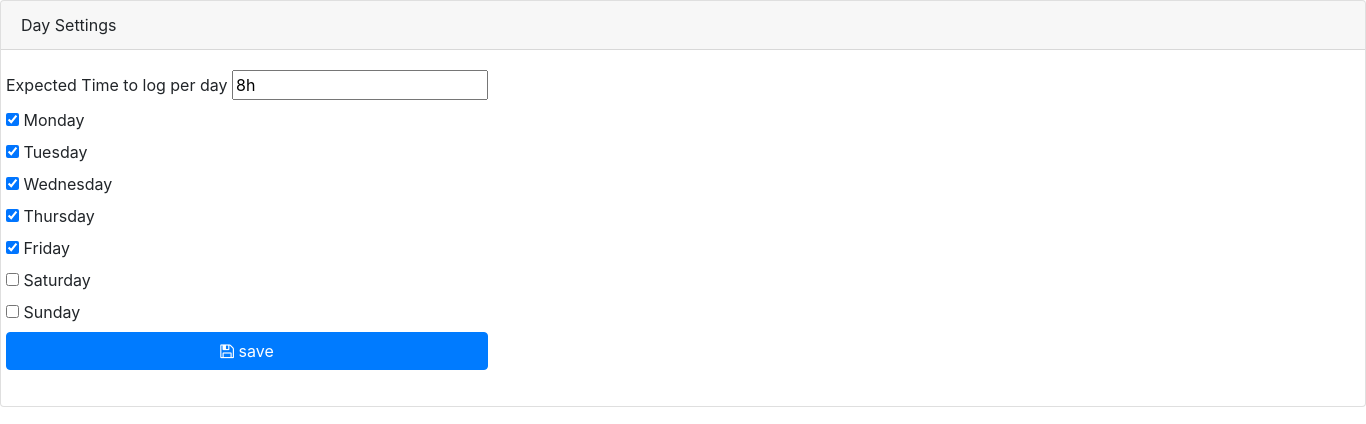
Test: SettingsView › should mark invalid values and make saving of that invalid value impossible
The width and height of the screenshot is (1366, 424).
Type "something invalid" into the field labelled "Expected Time to log per day" at (360, 85), box [232,70,488,100]
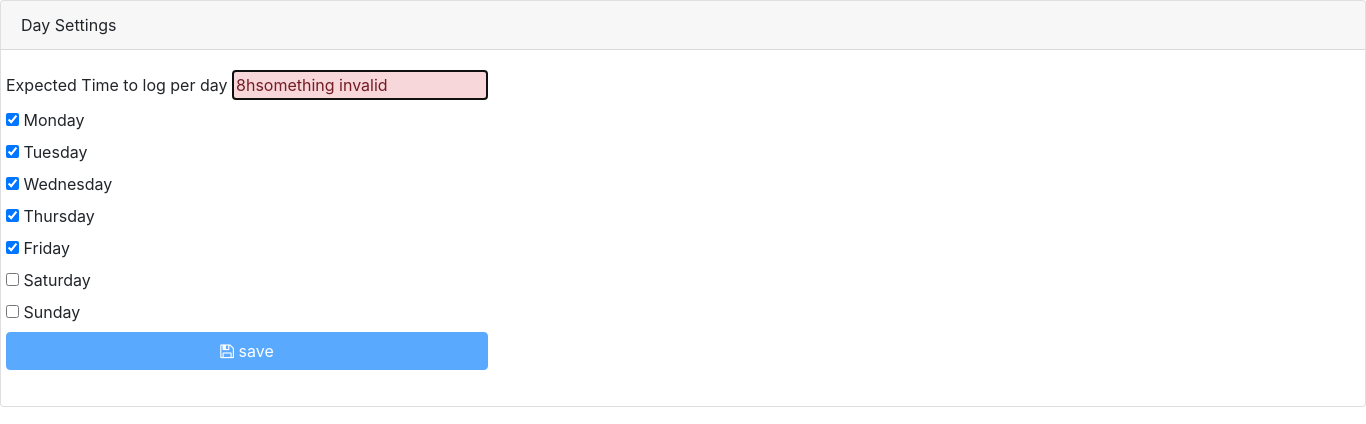
Expected: the button titled "save" is disabled, [6,332,488,370]
